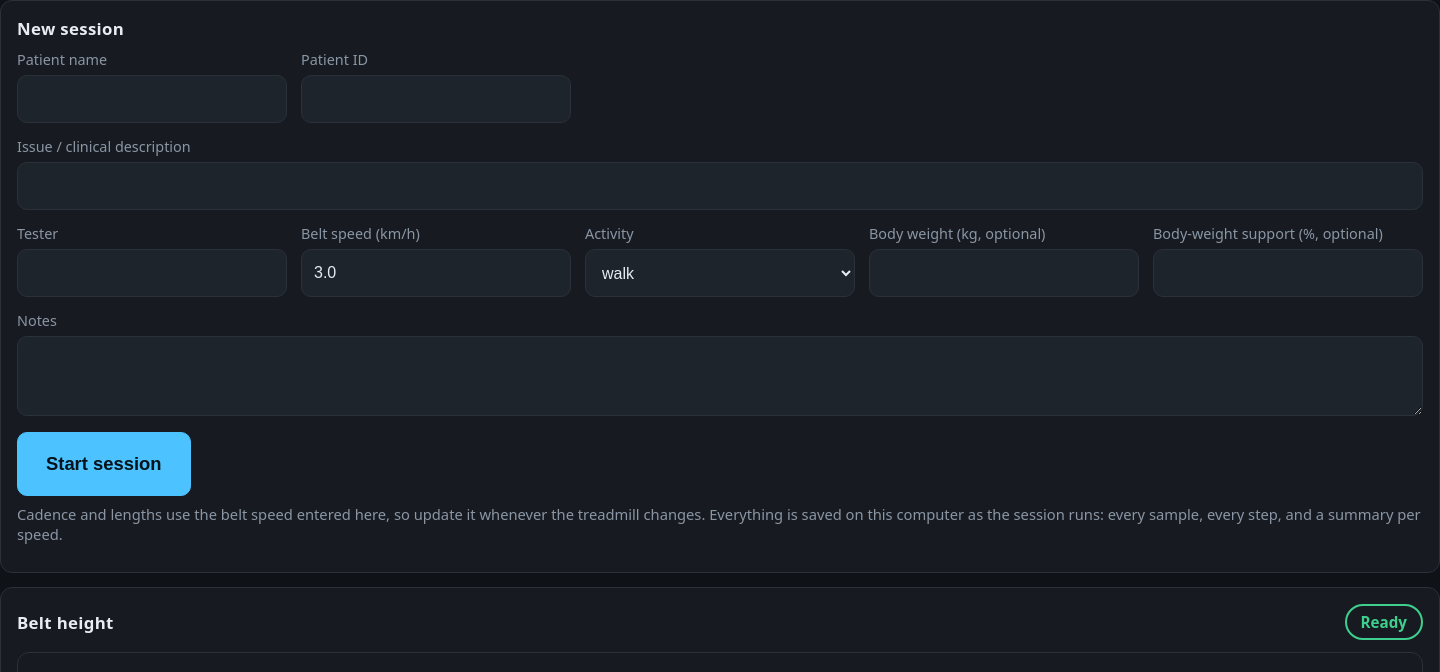
it: offers to start without the belt only after the backend refuses
Expected: the button "Start without belt control" is not shown
Click the button "Start session".
click(104, 464)  # box [17,432,190,496]
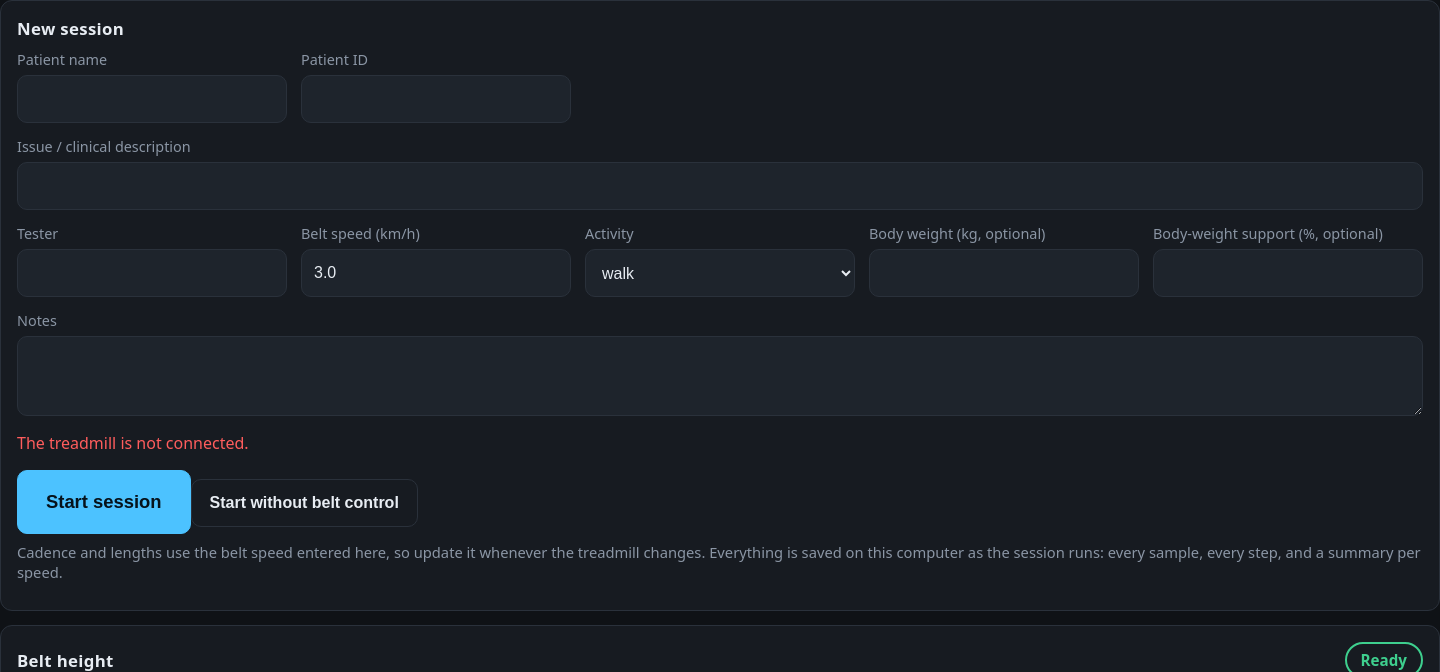
Result: the button "Start without belt control" is enabled at [190,479,418,527]
Result: the message shows "not connected" at [17,432,249,454]
